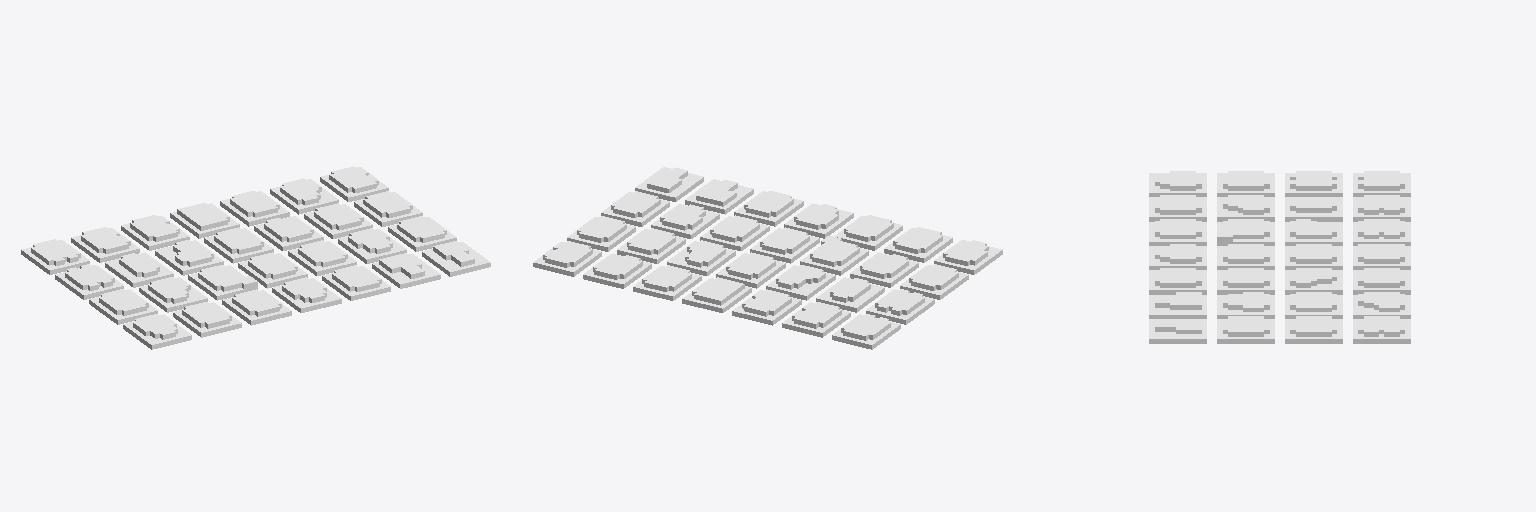
Rendered from Alphabet.obj.
3 views of the same model, side by side, from view 1: azimuth 30°, elevation 25°; view 2: azimuth 150°, elevation 25°; view 3: azimuth 270°, elevation 25° (orthographic).
Size of the model in its own units: 75 by 2 by 50.